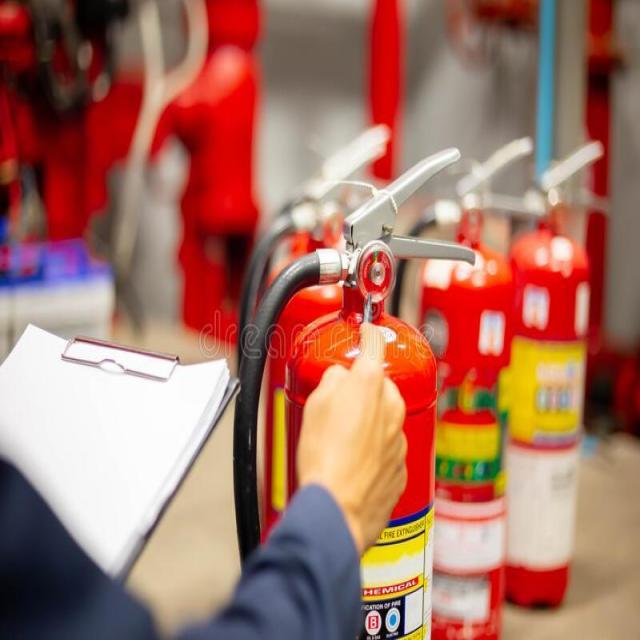fire_extinguisher: (228, 140, 482, 639), (383, 124, 550, 638), (476, 131, 614, 612)
